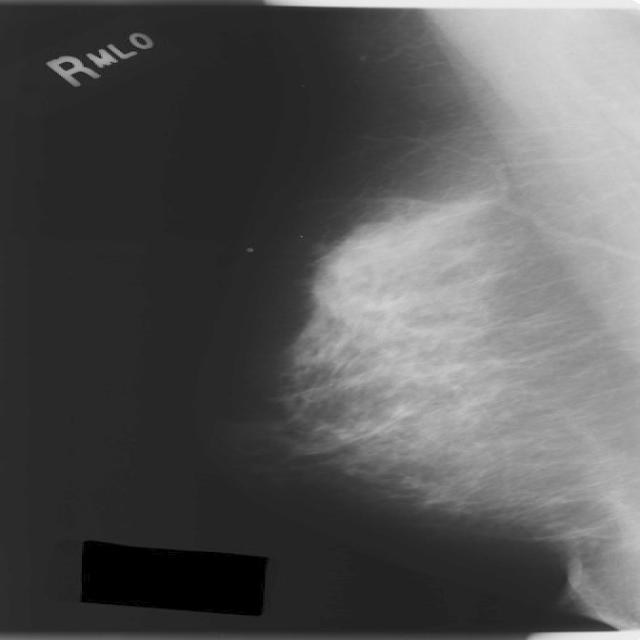tumour: (311, 198, 494, 338)
